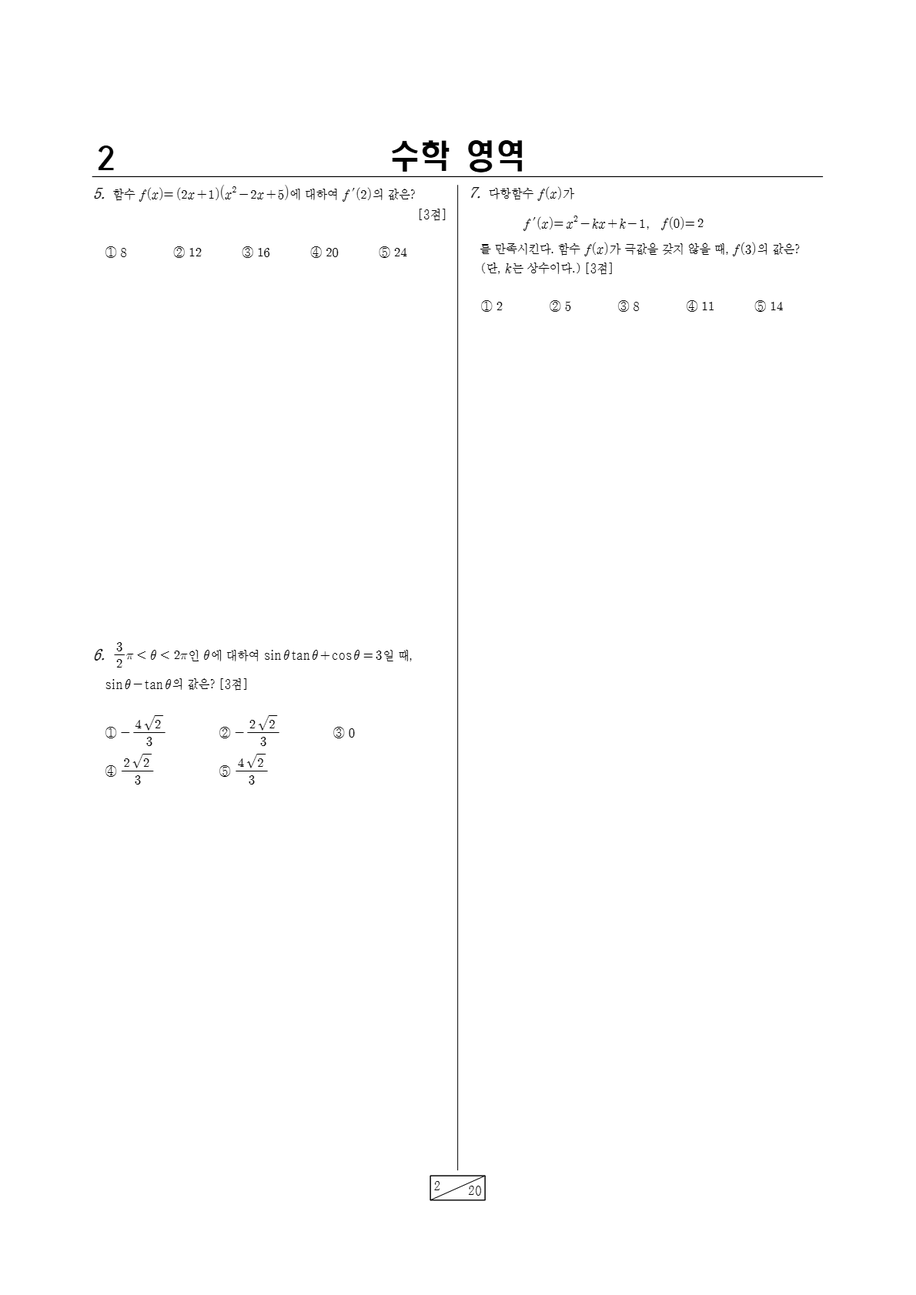opt_1: (480, 298, 493, 313), (105, 245, 116, 258), (105, 725, 116, 738)
opt_2: (172, 245, 185, 258), (549, 299, 561, 313), (219, 725, 230, 739)
opt_3: (332, 725, 345, 739), (617, 299, 629, 313), (242, 244, 252, 258)
opt_4: (686, 298, 699, 313), (309, 245, 322, 259), (105, 764, 116, 778)
opt_5: (376, 243, 391, 260), (218, 763, 231, 778), (754, 299, 766, 313)
